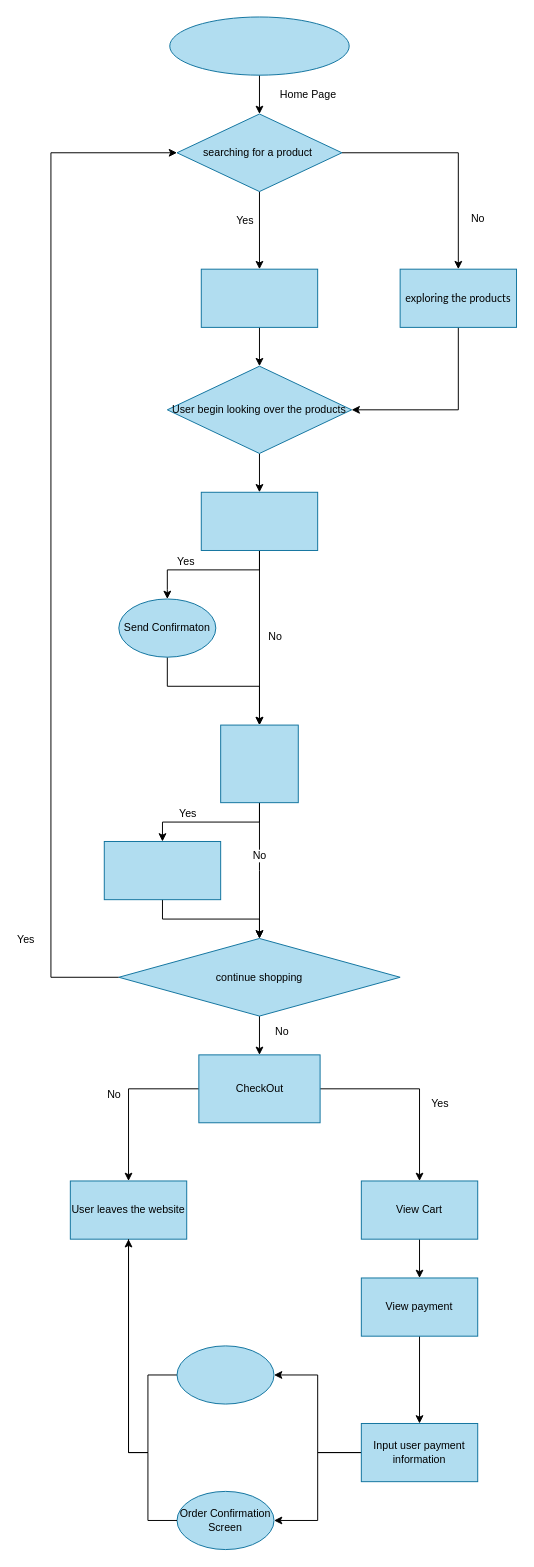
The diagram is 534 pixels wide and 1567 high, and some of its shapes have lost their labels. Each missing label, with the centre of its shape:
"Add to cart" belongs at point 259,520.
"Open product's webpage" belongs at point 162,870.
"Send Confirmaton email" belongs at point 225,1374.
"user enters the website" belongs at point 259,45.
"User provide input to the website" belongs at point 259,297.
"user view a specific product" belongs at point 259,763.
